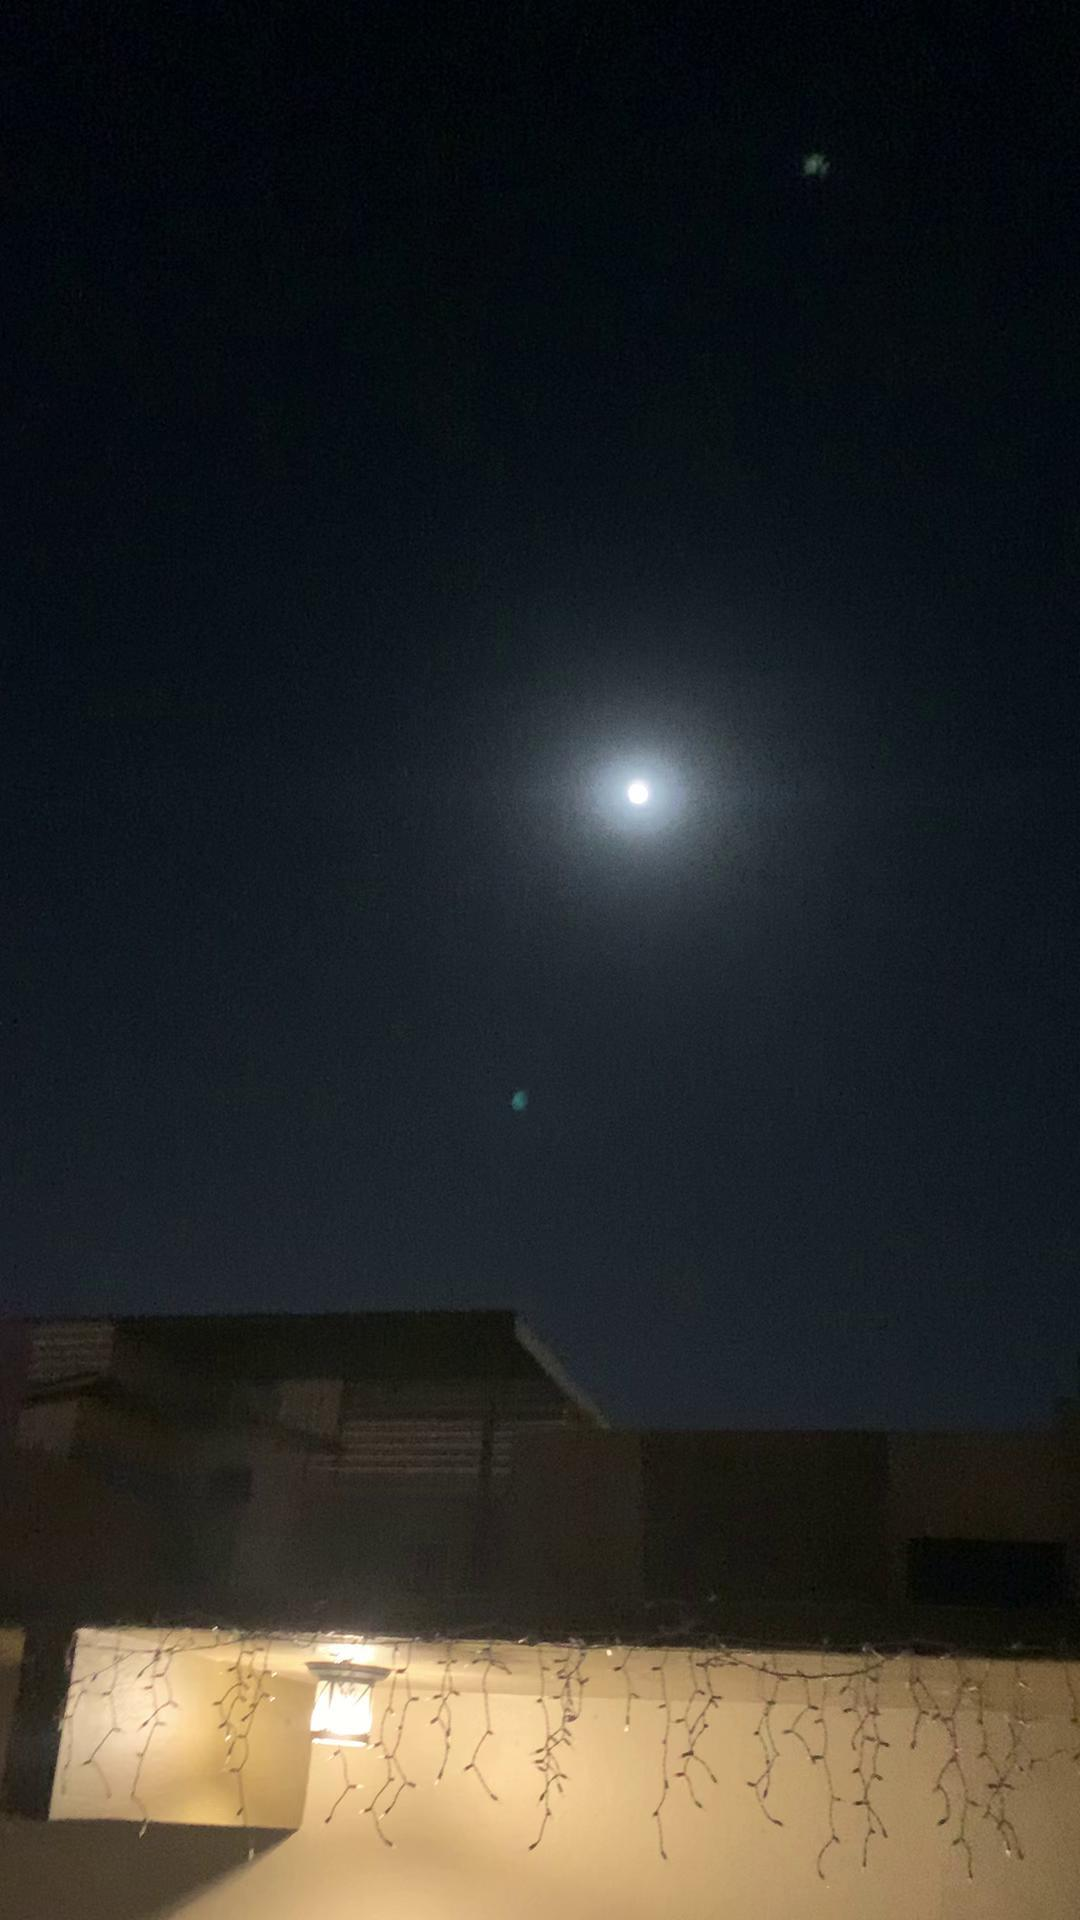moon: (593, 758, 680, 837)
